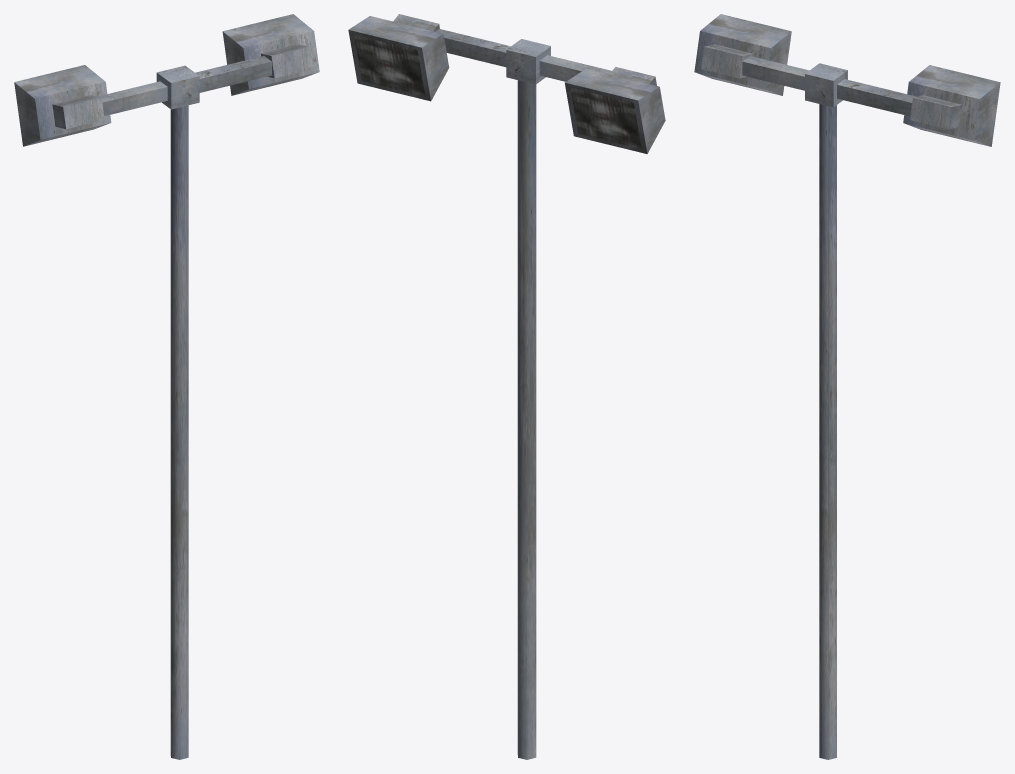
Rendered from ligths.fbx.
3 renders of one model, left to right at view 1: azimuth 30°, elevation 25°; view 2: azimuth 150°, elevation 25°; view 3: azimuth 330°, elevation 25°, orthographic. The views are drawn at different scales.
Visible parts, largest first — view 1: ligths; view 2: ligths; view 3: ligths.
Boxes of the visible parts, left/top/right/bottom form: ligths: left=14, top=14, right=319, bottom=759; ligths: left=348, top=14, right=665, bottom=759; ligths: left=694, top=14, right=1000, bottom=759.
Bounding box in the file's own units: 1.44 × 3.38 × 0.3265.
